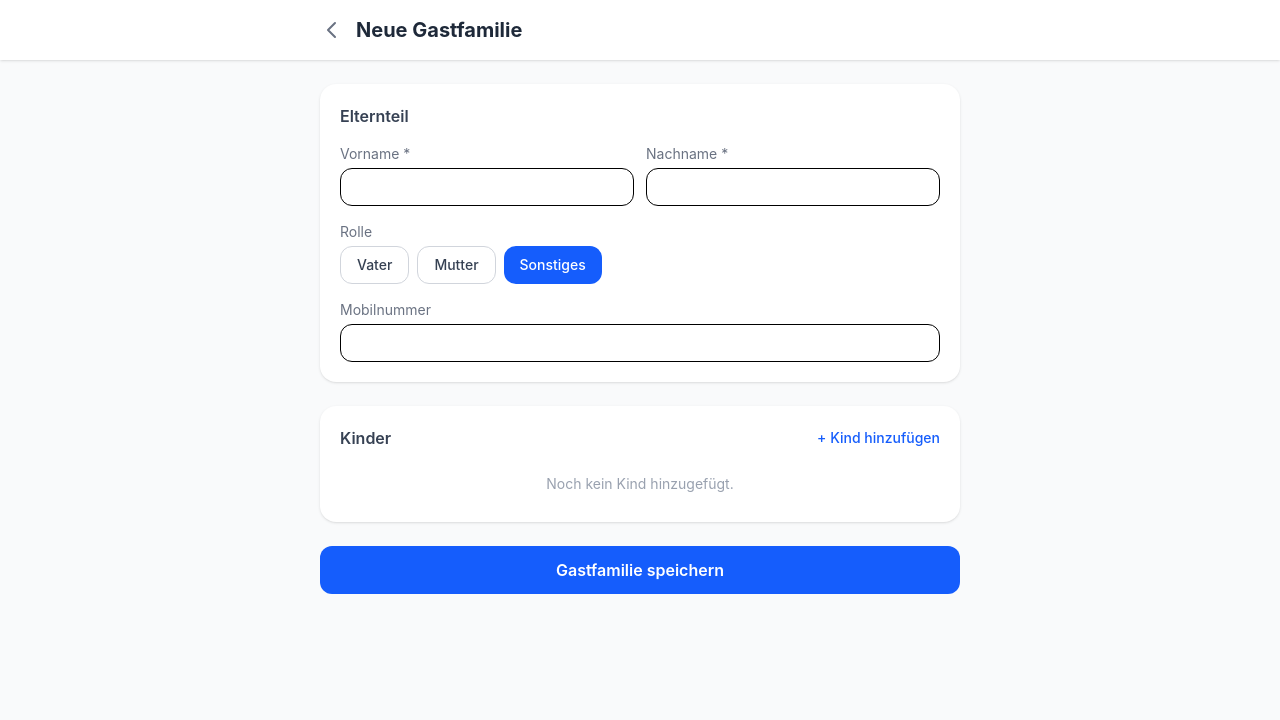
Test: NewGuestView – validation: parent name › shows error when first name is empty on submit
Fill only last name.
Type "Müller" into the field below "Nachname *" at (793, 187), box [646,168,940,206]
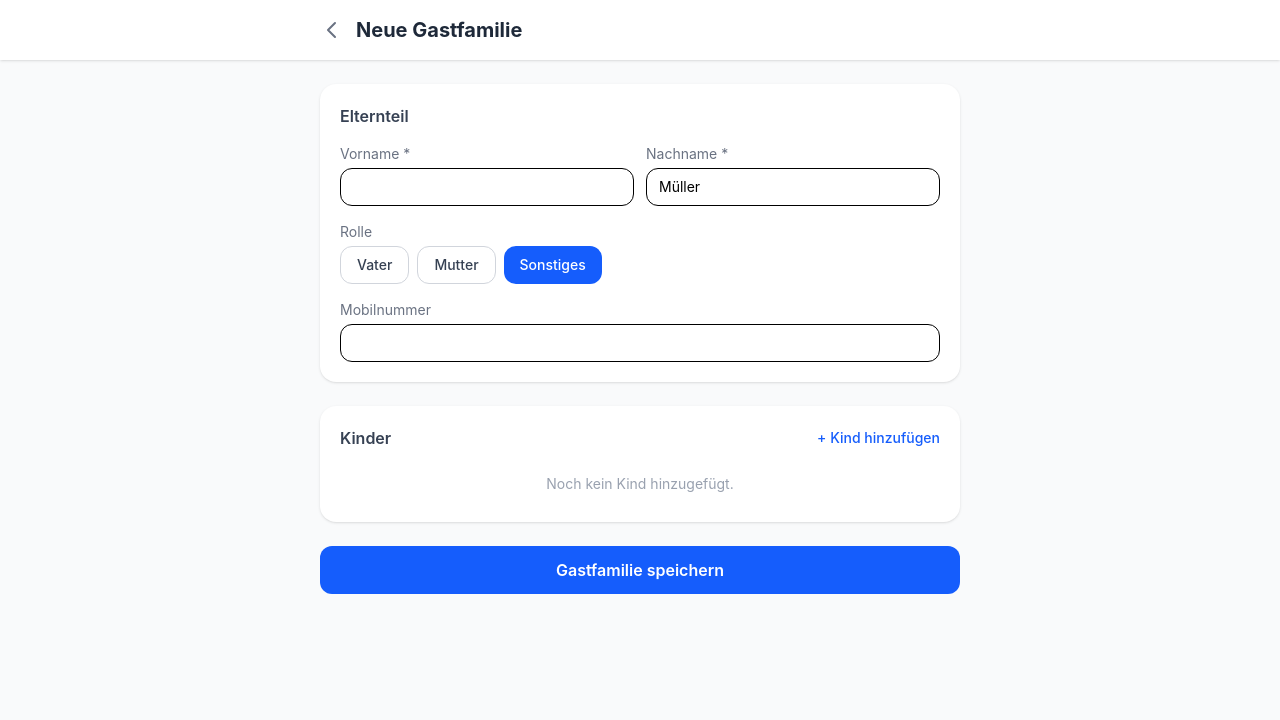
Click the button "Gastfamilie speichern" at (640, 570), box [320,546,960,594]
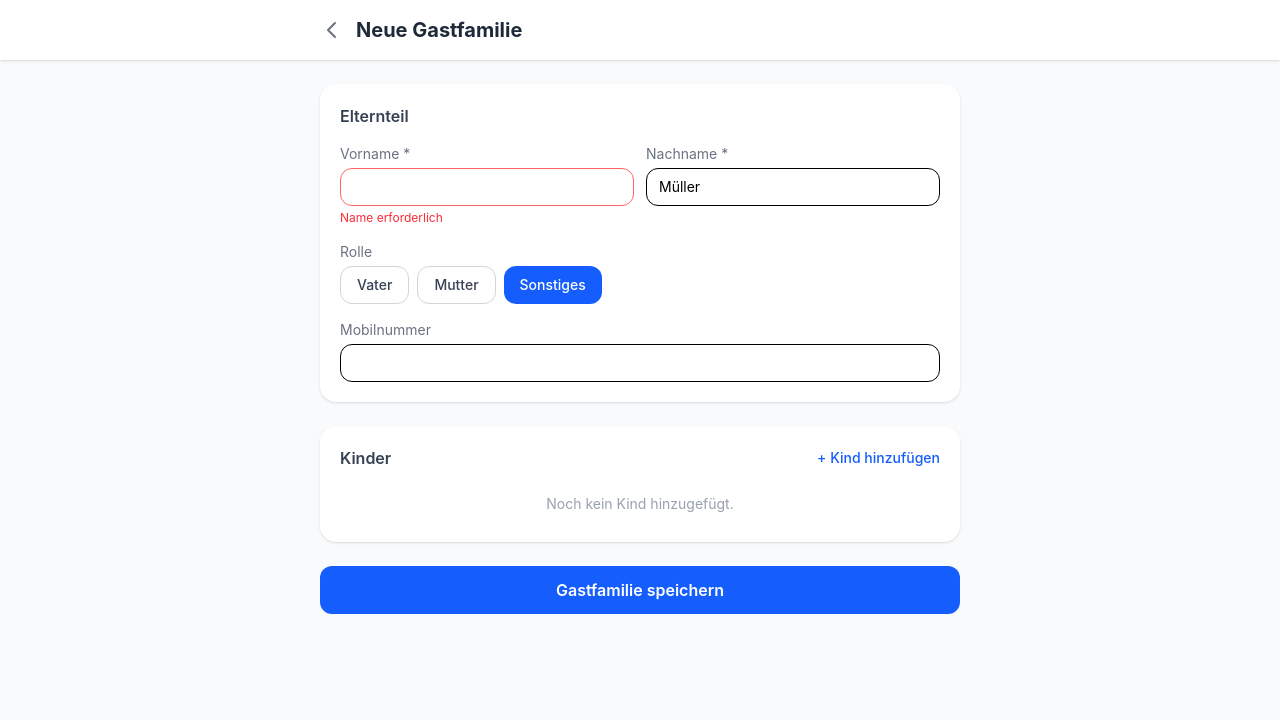
Expected: the text "Name erforderlich" is shown, [340,210,443,225]
